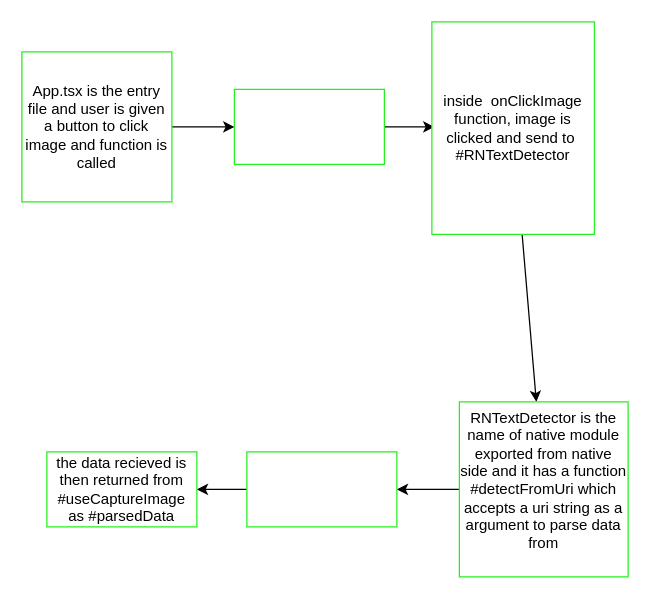
The diagram is 650 pixels wide and 599 high, and some of its shapes have lost their labels. The shapes that lost their labels are listed below. From the top down, each one's box as (x1, y1, x2, y2) in pixels, then its label:
(233, 88, 384, 164): #onClickImage
(246, 451, 397, 527): aftrer parsing the data it is send back to the JS side asynchronously
